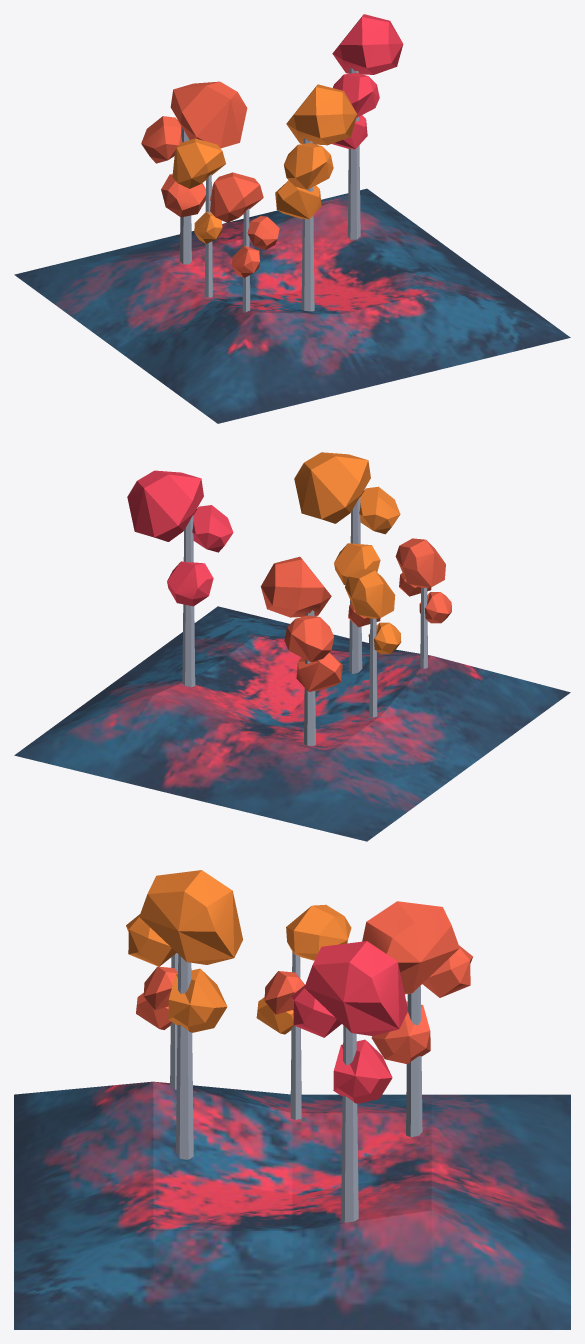
File: tree04.FBX
3 renders of one model, top to bottom at view 1: azimuth 30°, elevation 25°; view 2: azimuth 150°, elevation 25°; view 3: azimuth 270°, elevation 25°, orthographic. The views are drawn at different scales.
Visible parts, largest first — view 1: Tree04; view 2: Tree04; view 3: Tree04.
Boxes of the visible parts, x1,y1,x2,y2 form: Tree04: [14, 14, 570, 423]; Tree04: [14, 452, 570, 841]; Tree04: [14, 870, 570, 1329].
Size of the model in its own units: 1 by 1 by 0.6978.
Materials: 1 (1 with a texture image).
